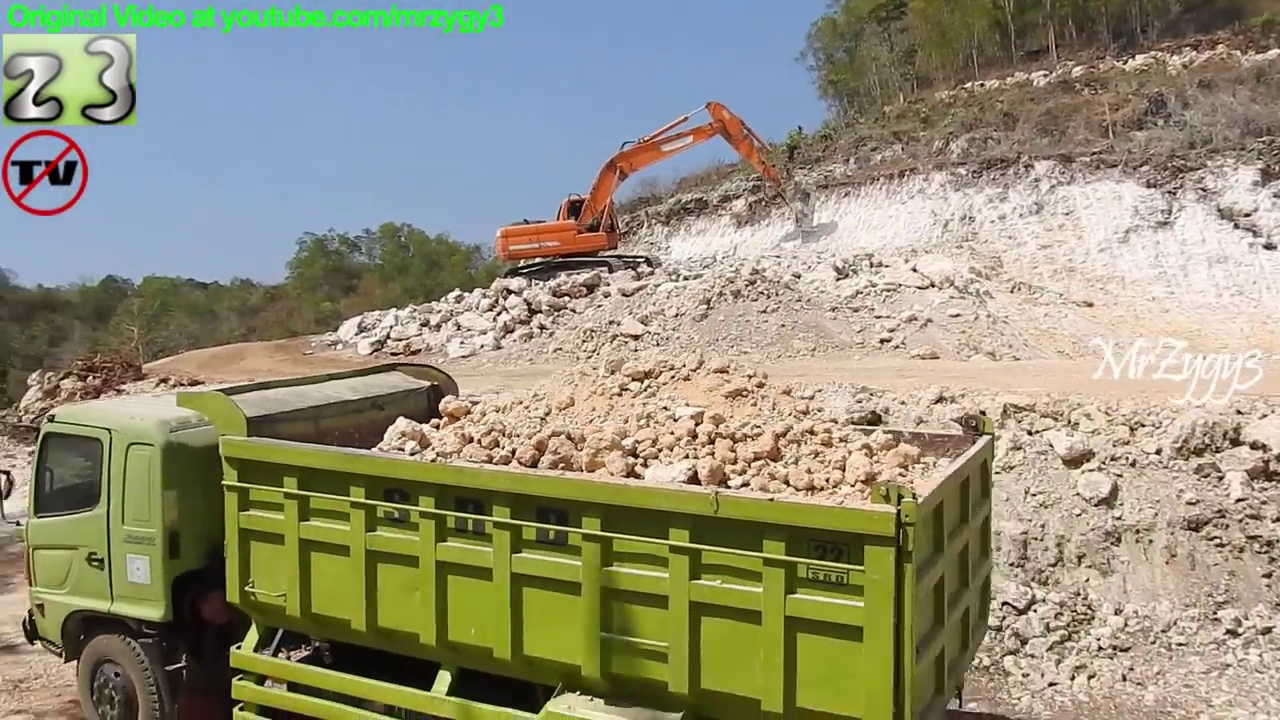excavator breaker: (491, 95, 817, 295)
truck: (1, 359, 998, 720)
